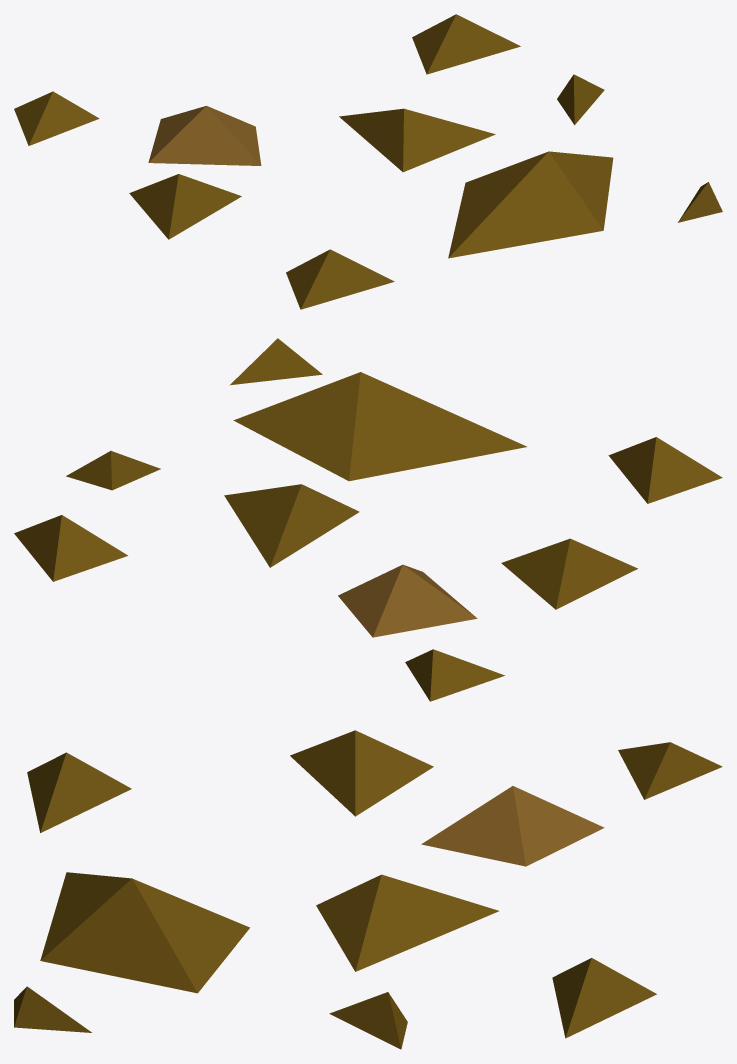
3 views of the same model, one above another, from view 1: azimuth 30°, elevation 25°; view 2: azimuth 150°, elevation 25°; view 3: azimuth 270°, elevation 25° (orthographic). The views are drawn at different scales.
Bounding box in the file's own units: 108 × 12 × 108.
Materials: 1 (1 with a texture image).
